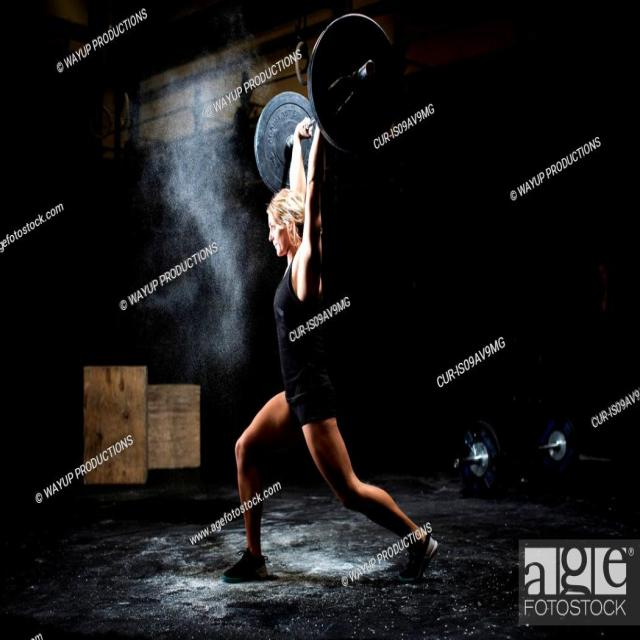barbell_plate_side: (252, 12, 290, 195), (365, 12, 403, 195)
